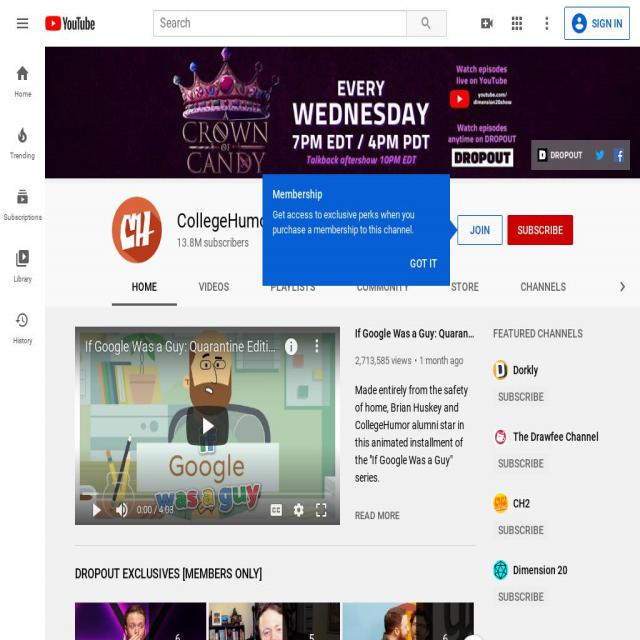login-option: (557, 0, 632, 48)
navigation-links: (91, 273, 495, 305), (2, 60, 38, 358)
options: (506, 8, 554, 35), (12, 10, 32, 37)
search: (148, 10, 456, 47)
video: (76, 320, 349, 537)
